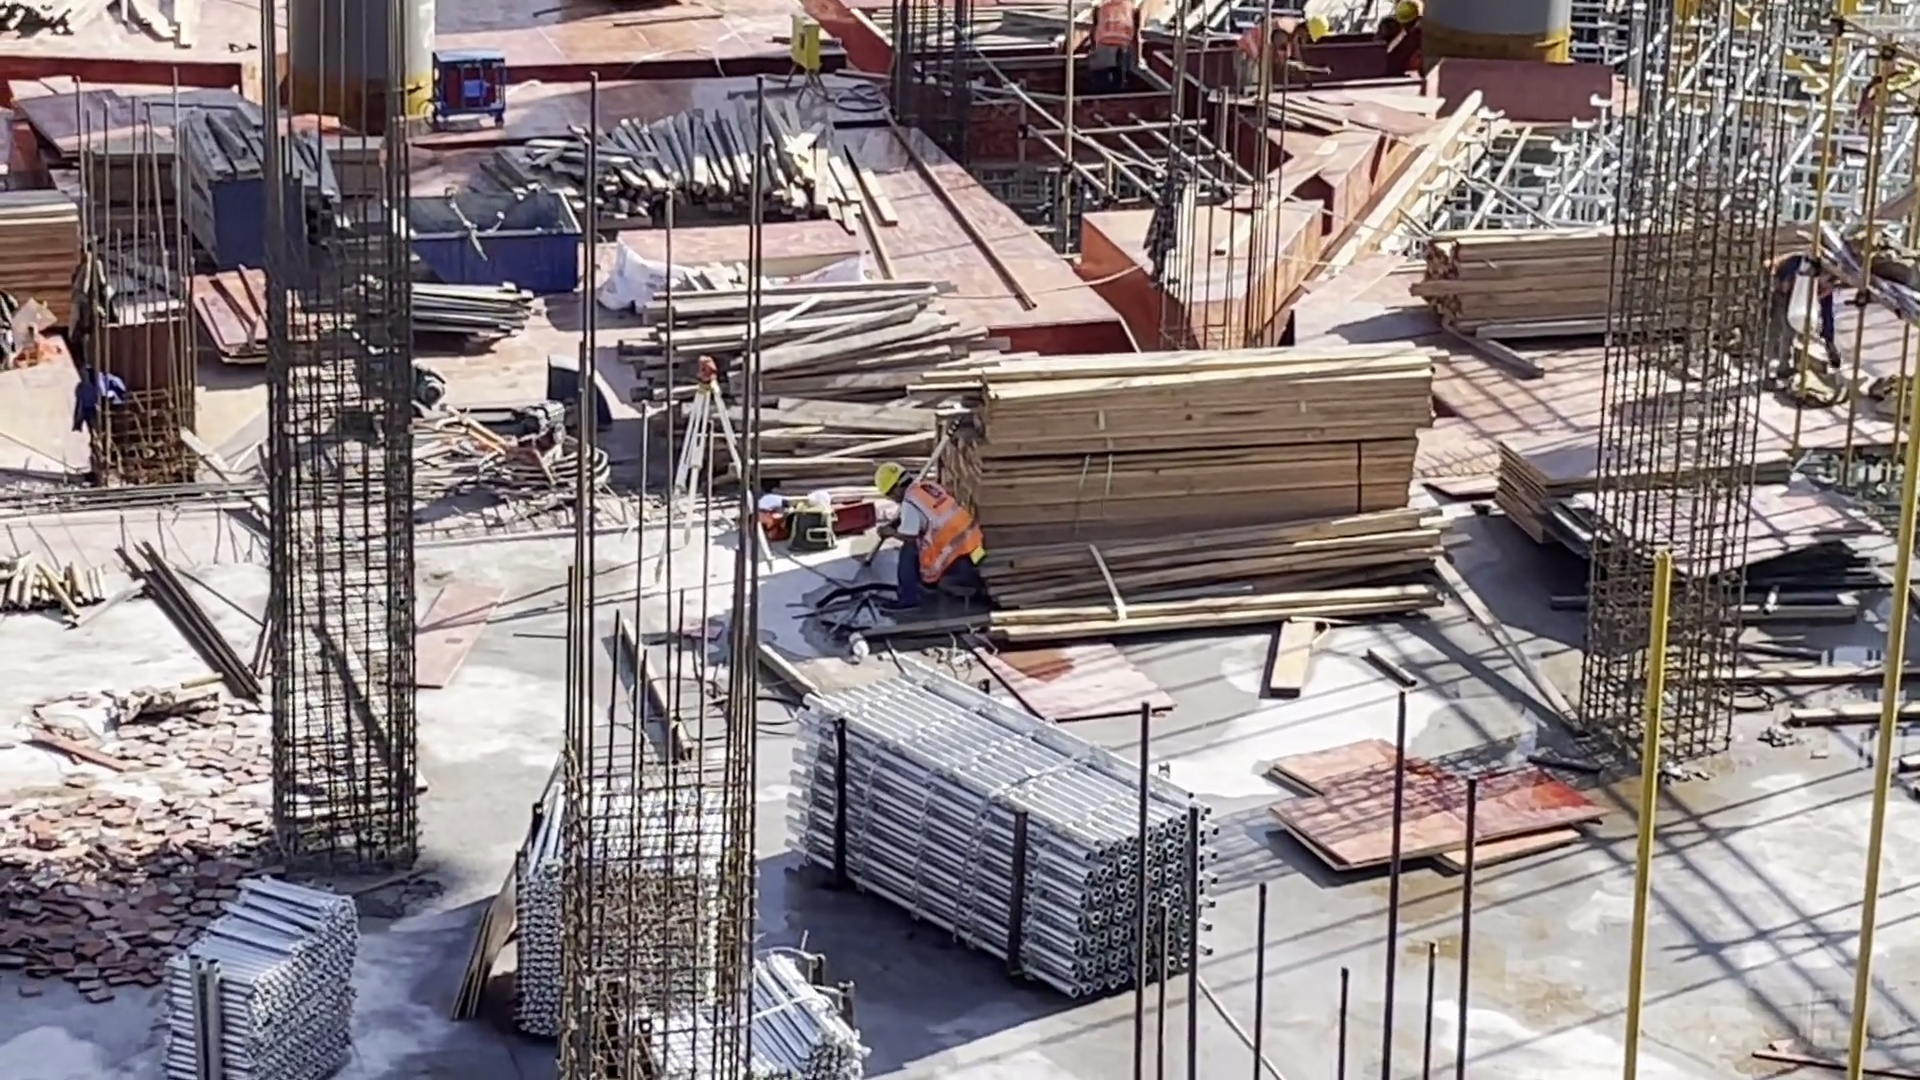board: (1492, 425, 1872, 577)
ebox: (787, 17, 822, 68)
helmet: (877, 461, 906, 490), (1307, 17, 1332, 45), (1396, 1, 1421, 19)
hopper: (381, 190, 578, 294)
person: (871, 463, 986, 607), (1755, 246, 1845, 377), (1230, 16, 1334, 85), (1087, 2, 1149, 58), (1387, 9, 1425, 84)
scaffold: (789, 659, 1220, 1000), (511, 765, 865, 1080), (165, 864, 361, 1080)
vest: (907, 483, 980, 587), (1241, 19, 1299, 66), (1094, 5, 1137, 47)
wood: (909, 335, 1440, 635), (622, 272, 984, 496), (548, 94, 900, 235), (1415, 217, 1747, 354), (2, 187, 84, 335)
